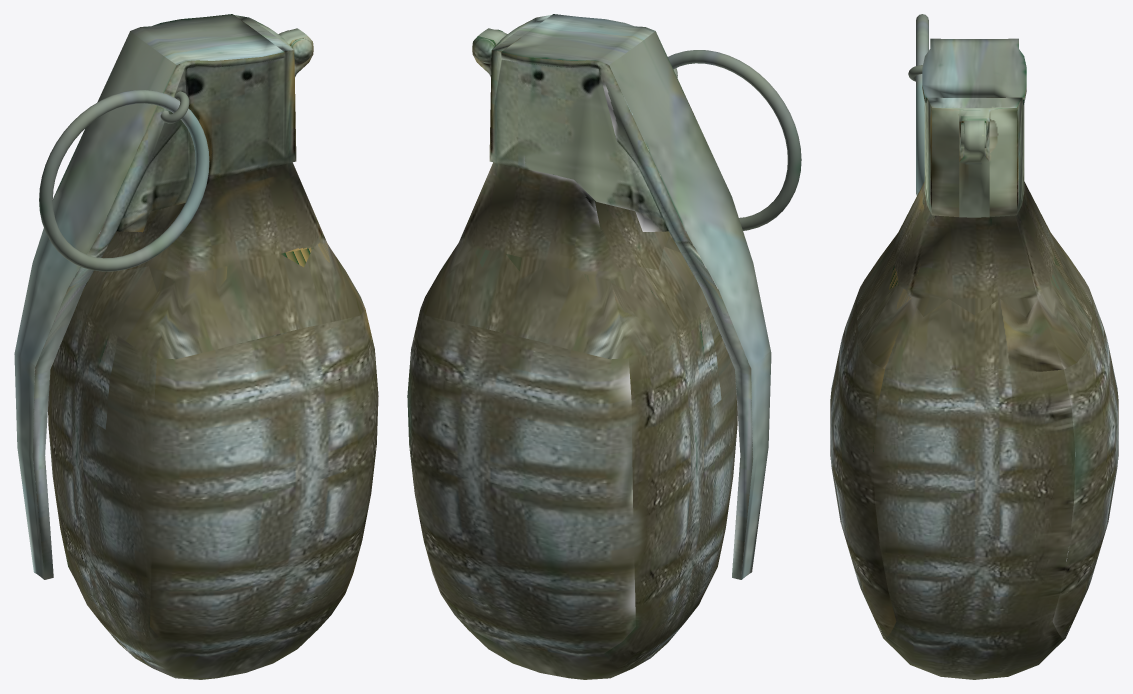
File: Grenade.obj
3 renders of one model, left to right at view 1: azimuth 30°, elevation 25°; view 2: azimuth 150°, elevation 25°; view 3: azimuth 270°, elevation 25°, orthographic. The views are drawn at different scales.
Parts seen in each view (by area): view 1: Cube; view 2: Cube; view 3: Cube.
Part boxes in pixels (x1,y1,x2,y2): Cube: (14,14,378,679); Cube: (407,14,801,679); Cube: (830,14,1118,679).
Bounding box in the file's own units: 21.26 × 38.94 × 16.88.
Materials: 1 (1 with a texture image).
